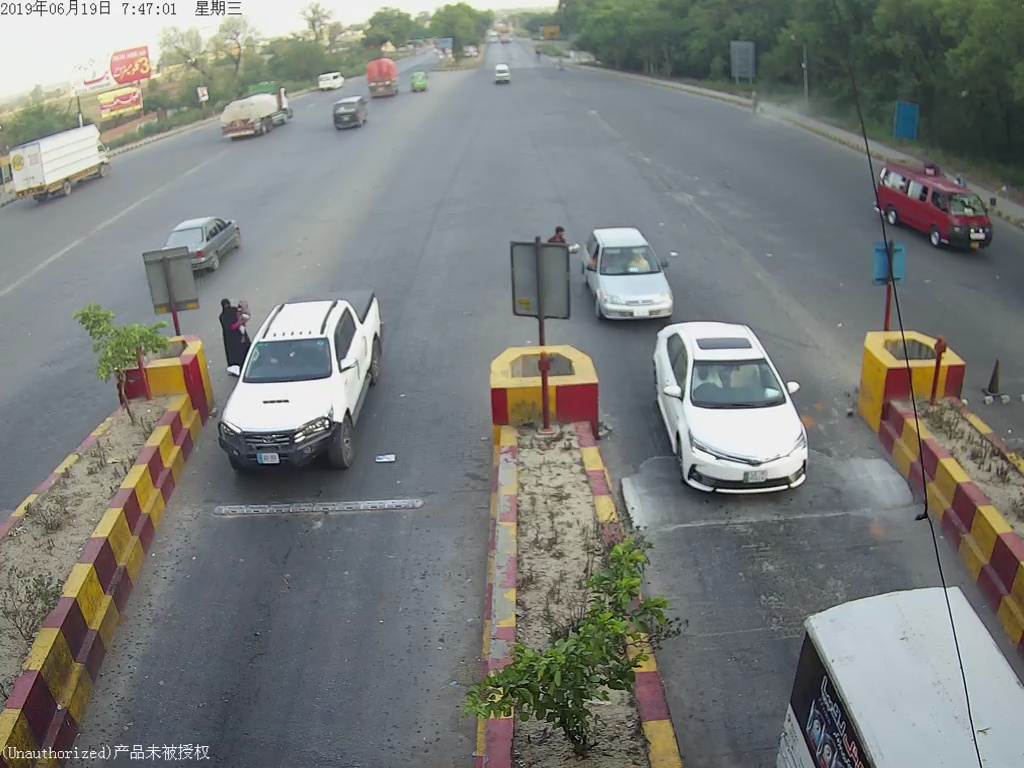Cat-1: (221, 291, 387, 475), (652, 316, 815, 494), (576, 222, 679, 323)
